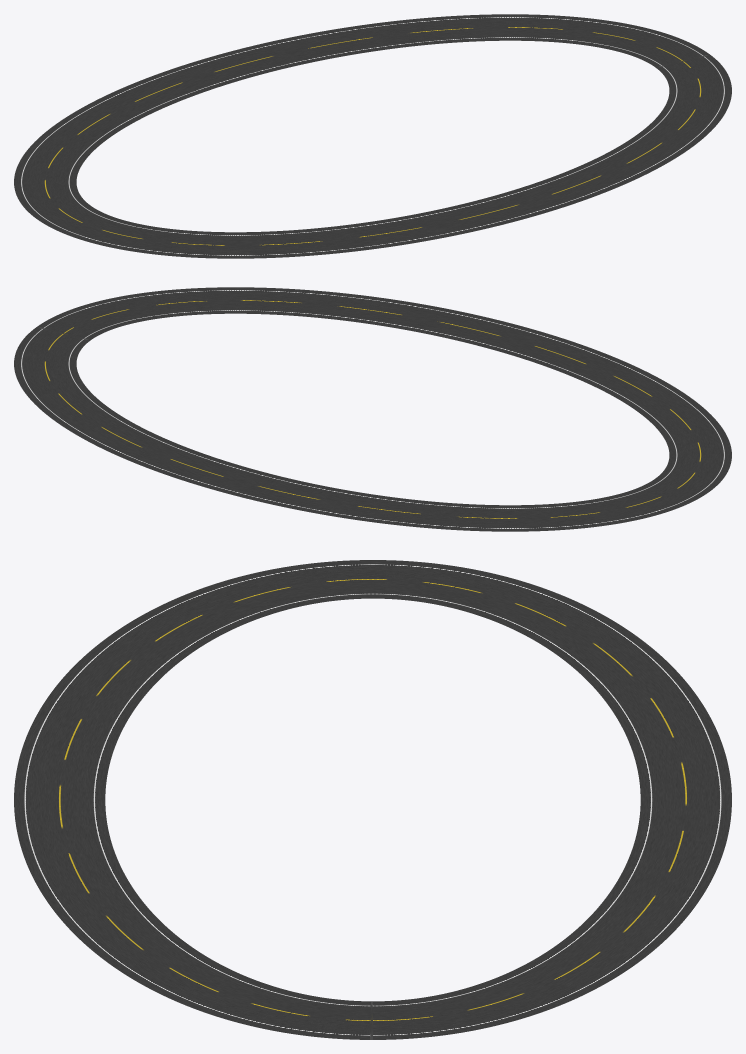
File: oval_track.dae
3 views of the same model, one above another, from view 1: azimuth 30°, elevation 25°; view 2: azimuth 150°, elevation 25°; view 3: azimuth 270°, elevation 25° (orthographic). The views are drawn at different scales.
Parts seen in each view (by area): view 1: oval_track; view 2: oval_track; view 3: oval_track.
Part boxes in pixels (x1=…): oval_track: x1=14, y1=14, x2=731, y2=258; oval_track: x1=14, y1=287, x2=731, y2=531; oval_track: x1=14, y1=560, x2=731, y2=1039.
Size of the model in its own units: 43.5 by 27.5 by 1.2e-06.
